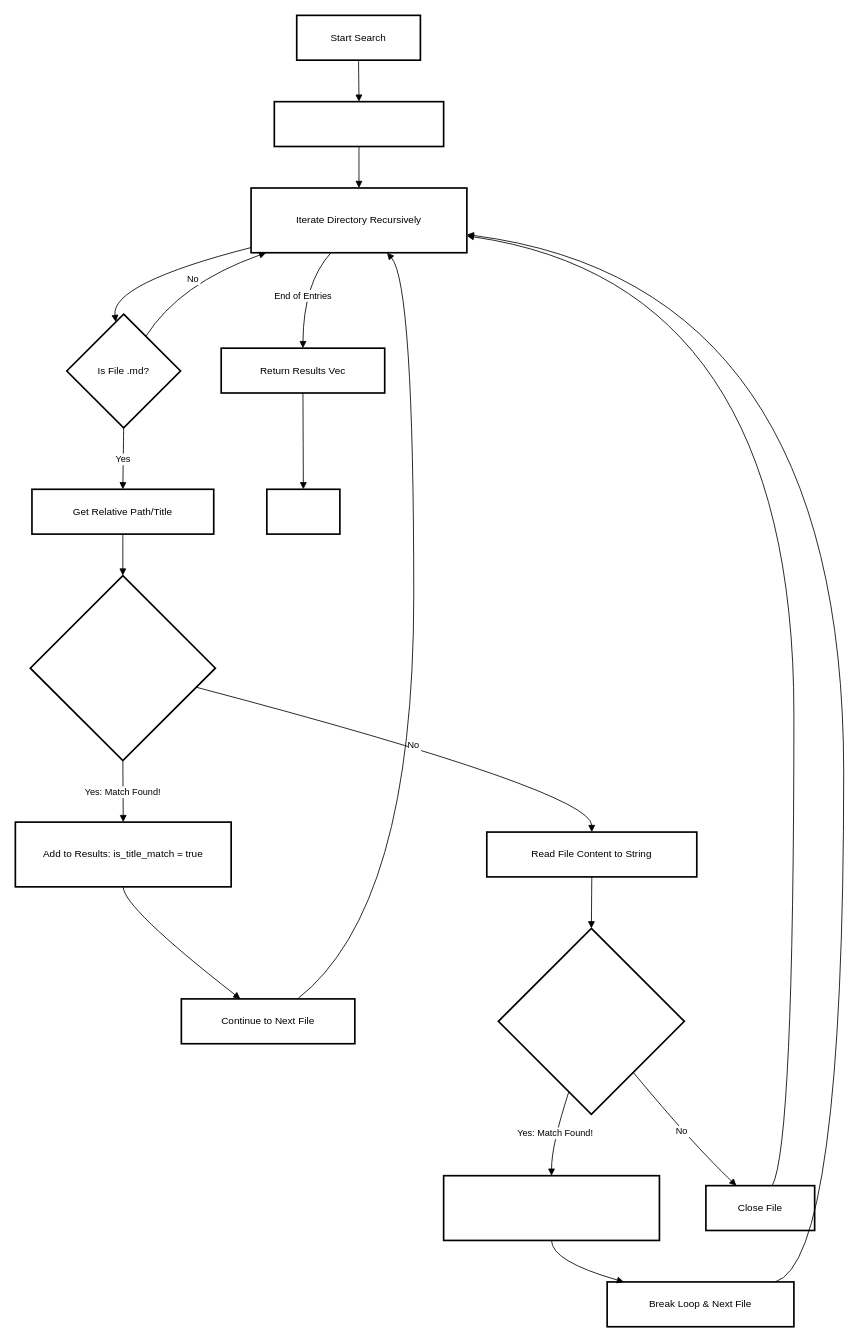
The diagram is 858 pixels wide and 1341 high, and some of its shapes have lost their labels. The box of each missing label's shape, as (x1, y1, x2, y2) in pixels:
Add to Results: preview = line: (442, 1174, 660, 1241)
End: (266, 488, 340, 535)
Line contains Keyword?: (497, 927, 685, 1115)
Lowercase Keyword: (273, 100, 444, 147)
Title contains Keyword?: (29, 574, 216, 761)
